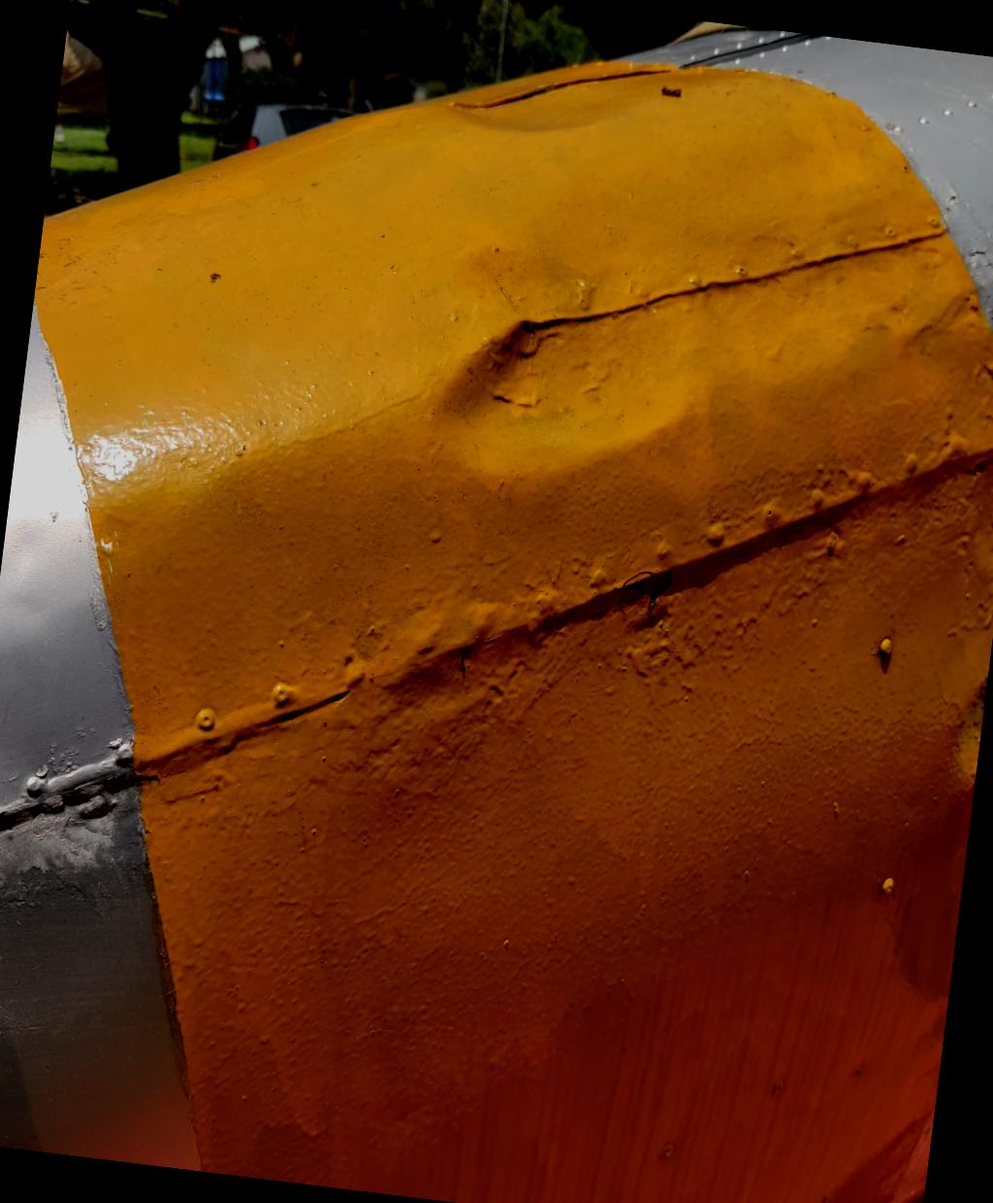dent: (381, 220, 718, 565)
